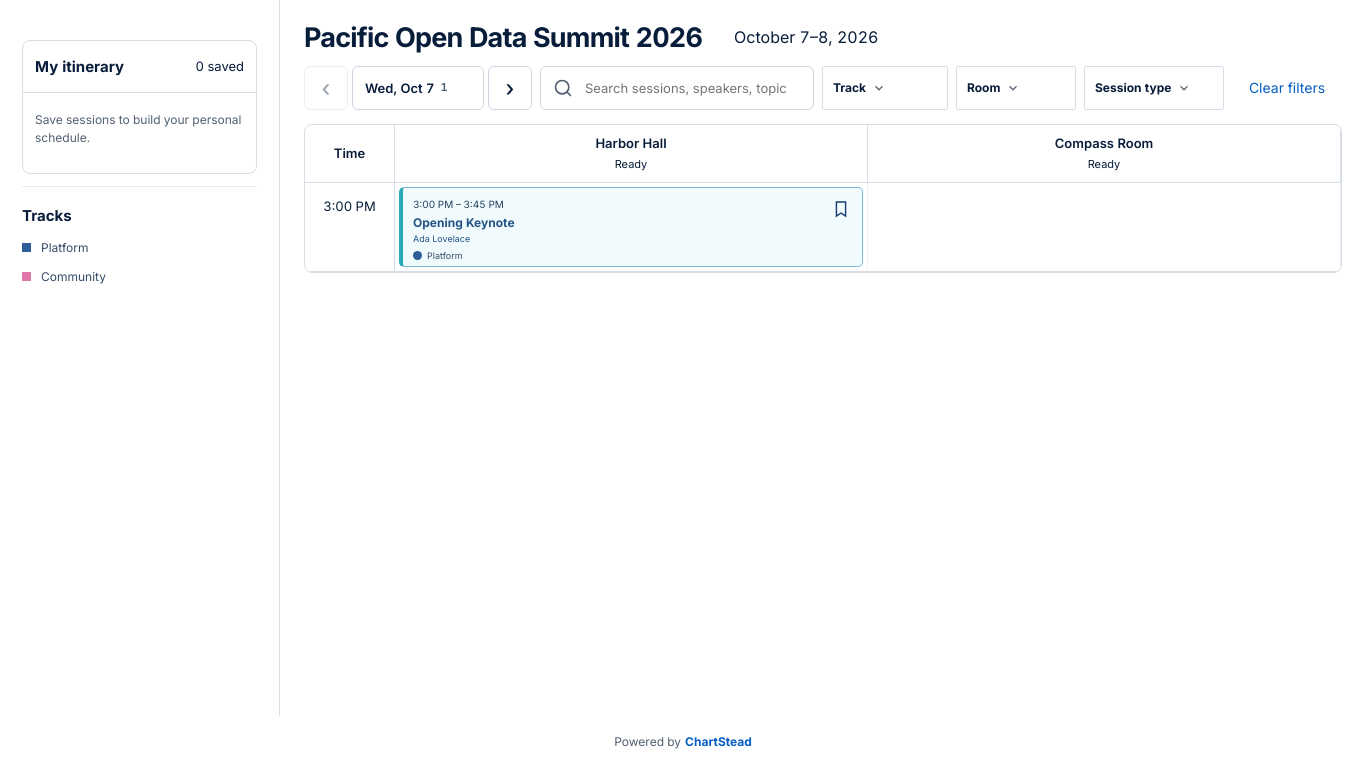
Scenario: PublicProgramRenderer › renders itinerary as an accessible time-by-room grid and preserves saved state while filtering
The image size is (1366, 768).
Check: the table named "Schedule itinerary" is shown, box left=305, top=125, right=1341, bottom=272
Check: the text "October 7–8, 2026" is shown, box left=734, top=26, right=878, bottom=50
Click the button named "Save Opening Keynote".
click(841, 210)  # box left=824, top=193, right=858, bottom=227
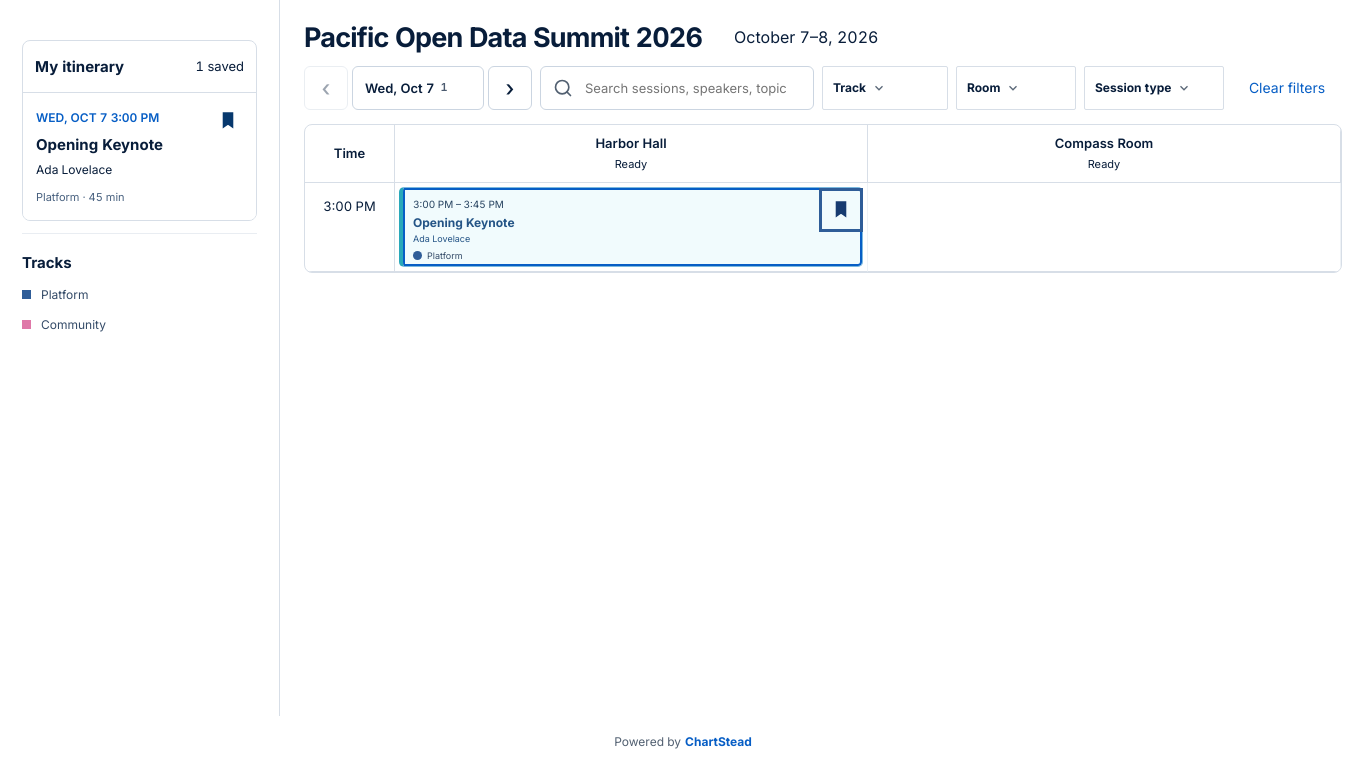
Check: the button named "Save Opening Keynote" below "Harbor Hall" is pressed, box left=824, top=193, right=858, bottom=227
Click the dropdown labelled "Track".
click(885, 88)  # box left=822, top=66, right=948, bottom=110
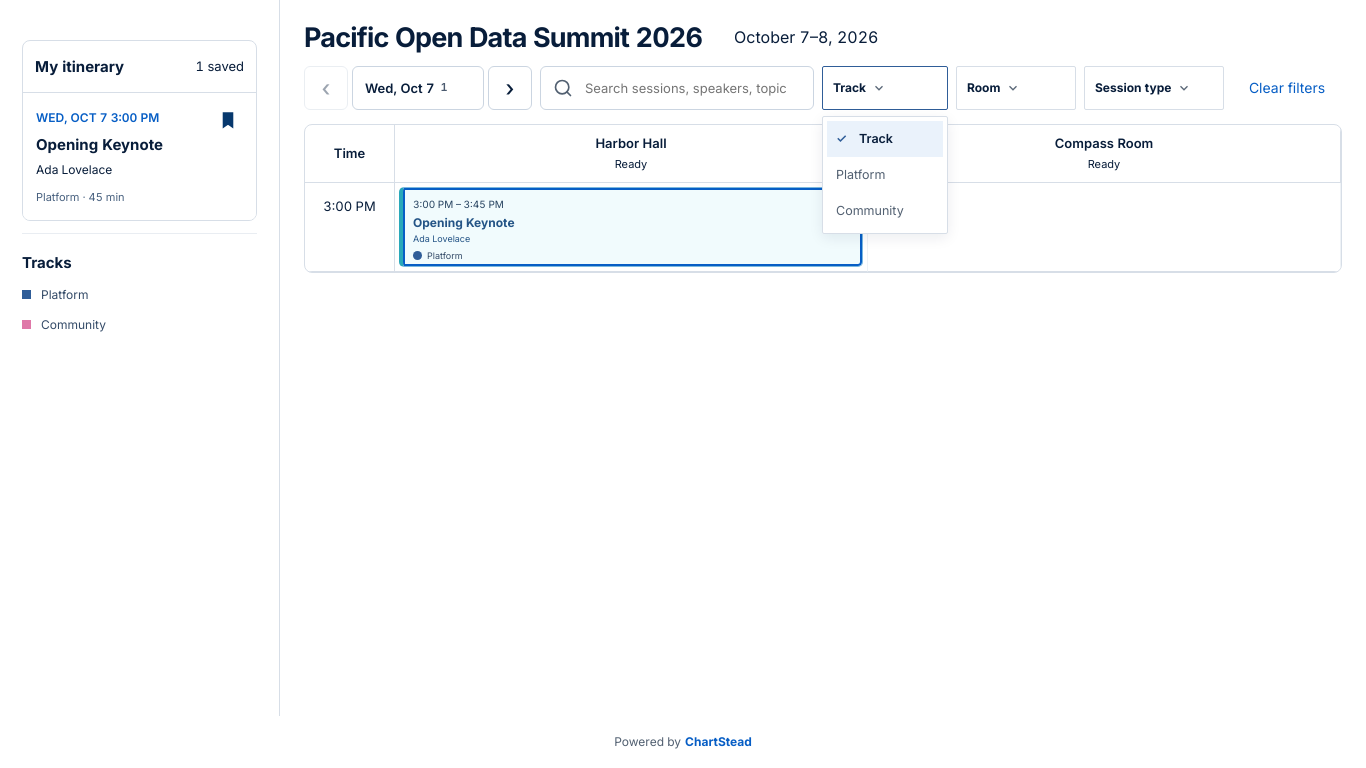
Click the option "Community".
click(870, 210)  # box left=836, top=203, right=904, bottom=218
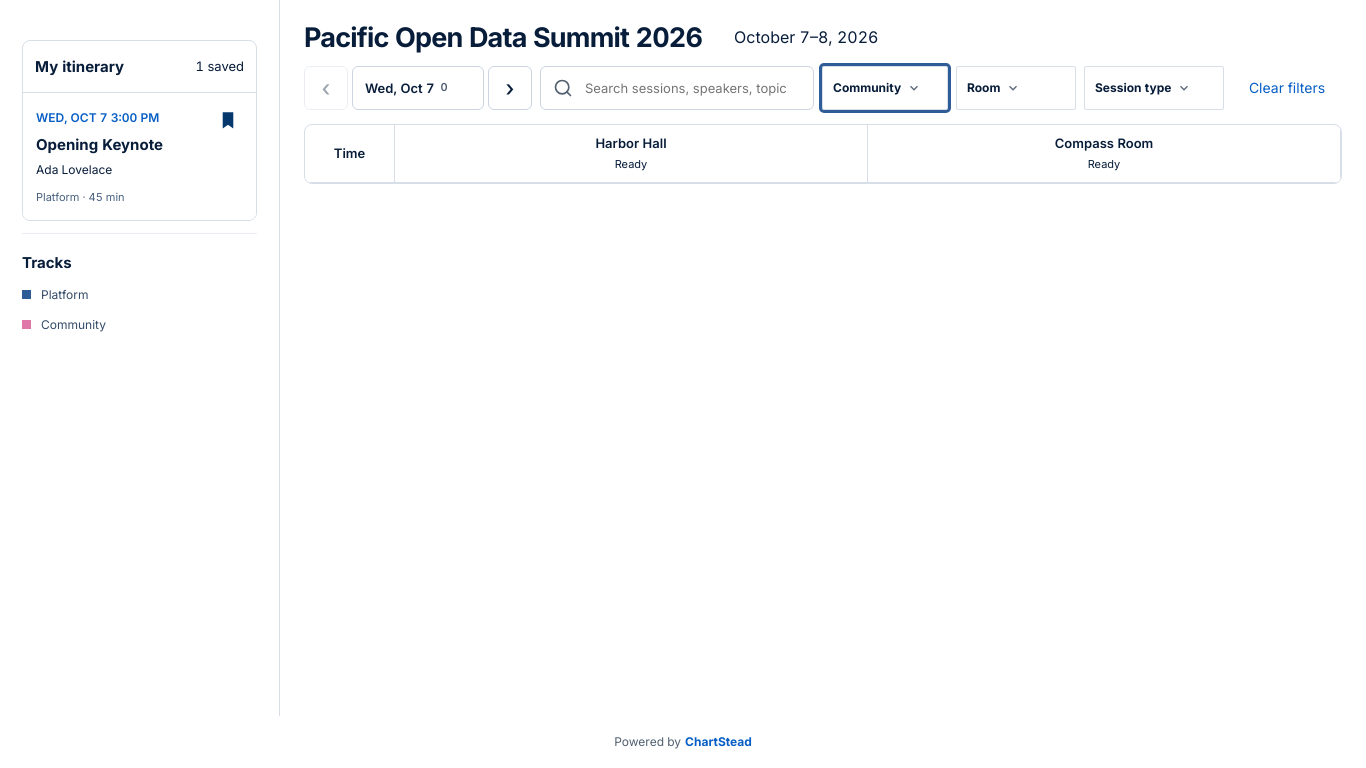
Check: the dropdown named "Track" is collapsed
Click the dropdown named "Track".
click(885, 88)  # box left=822, top=66, right=948, bottom=110
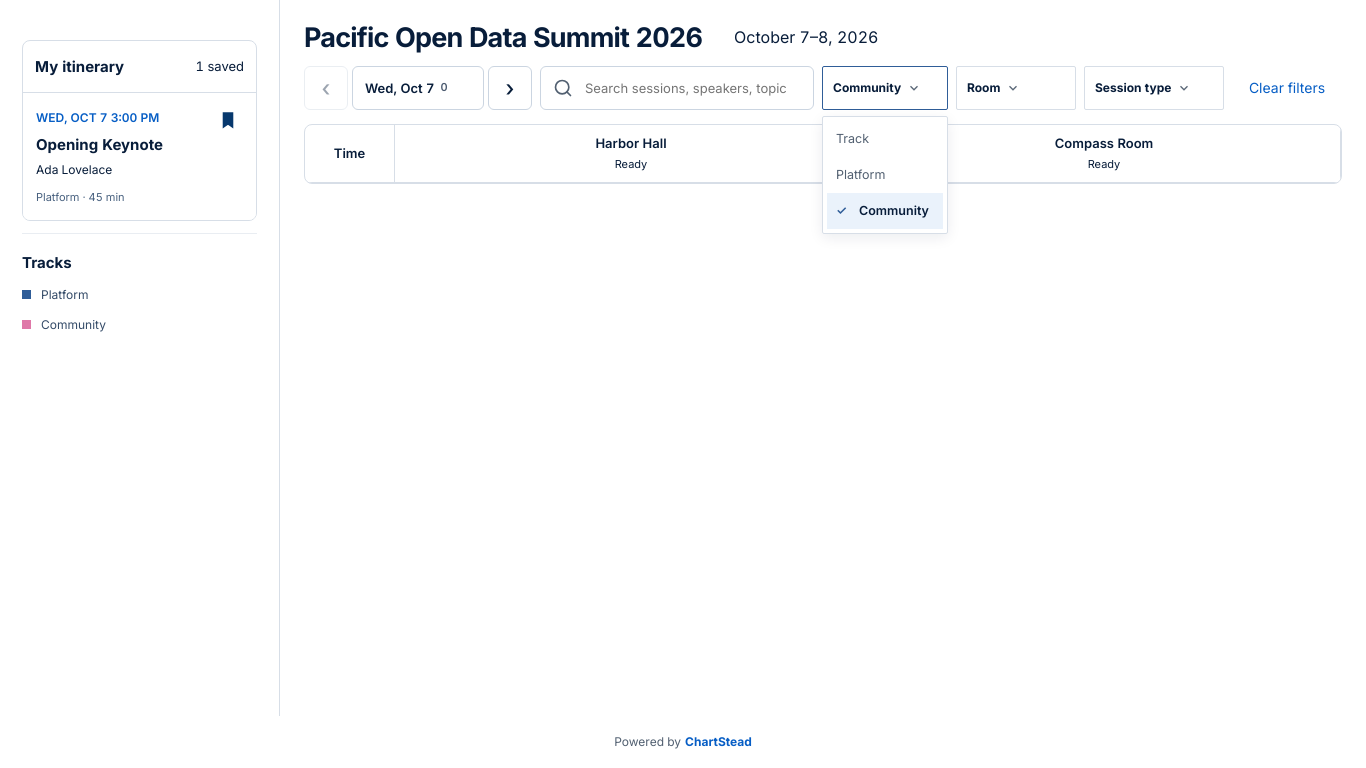
Click the option "Platform".
click(861, 174)  # box left=836, top=167, right=885, bottom=182
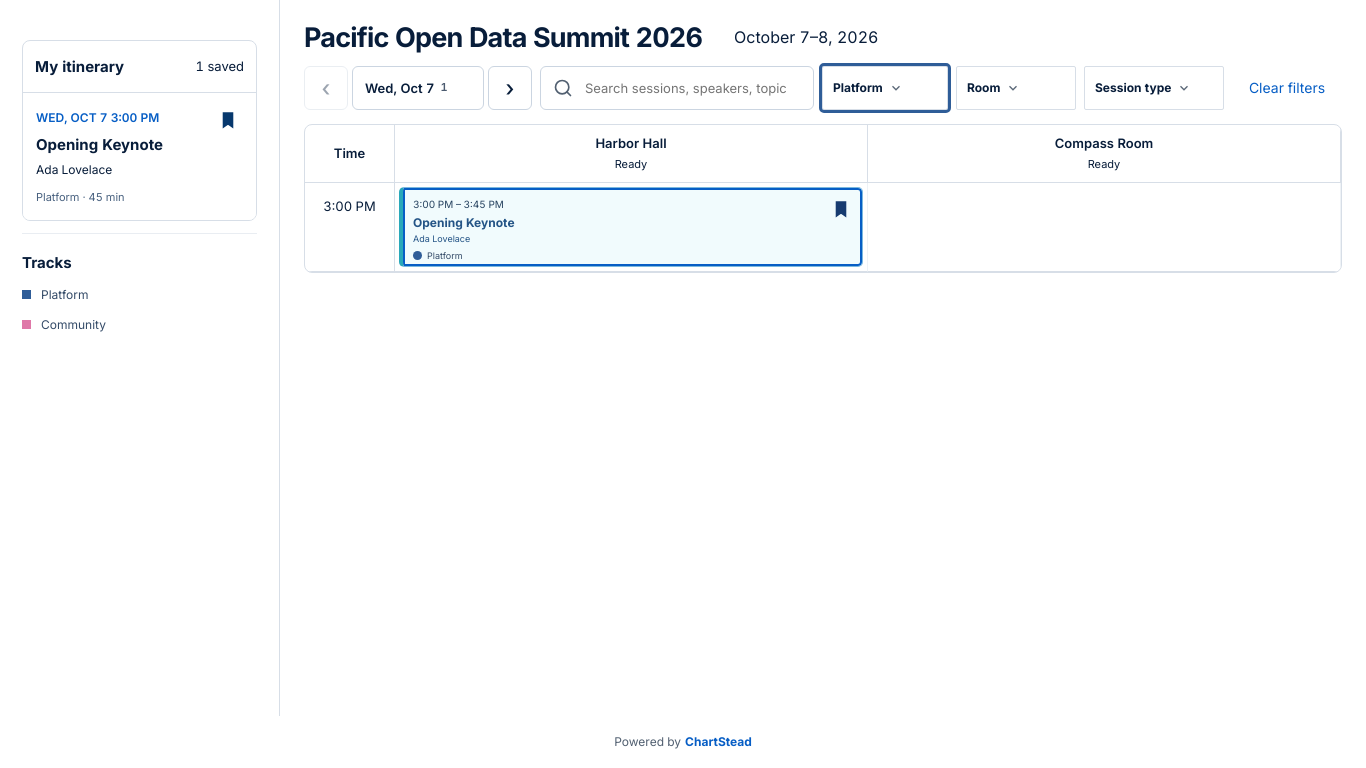
Check: the dropdown named "Track" is collapsed, box left=822, top=66, right=948, bottom=110
